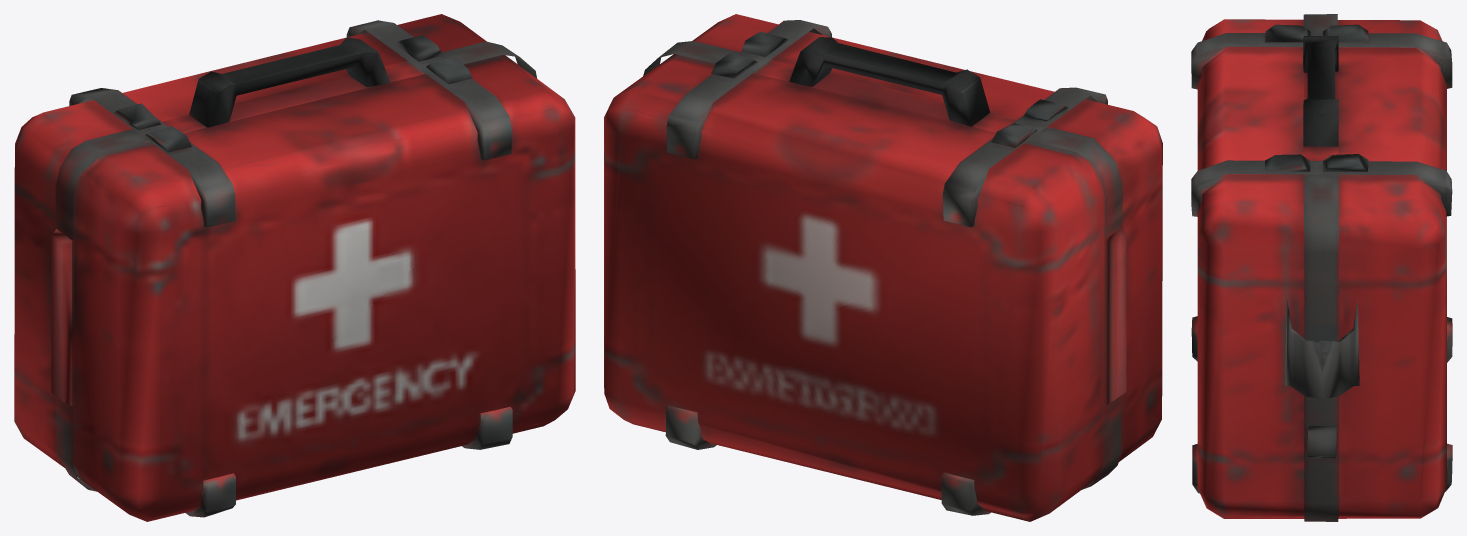
Rendered from Meshy_AI_Emergency_Medical_Kit_0907133121_texture.fbx.
The picture shows the model from 3 angles, left to right: view 1: azimuth 30°, elevation 25°; view 2: azimuth 150°, elevation 25°; view 3: azimuth 270°, elevation 25°; orthographic projection. The views are drawn at different scales.
Visible parts, largest first — view 1: mesh_node; view 2: mesh_node; view 3: mesh_node.
Part boxes in pixels (x1=…): mesh_node: x1=14, y1=14, x2=575, y2=521; mesh_node: x1=604, y1=14, x2=1162, y2=521; mesh_node: x1=1191, y1=14, x2=1452, y2=521.
Bounding box in the file's own units: 100 × 72.85 × 47.75.
1 material, 1 textured.
